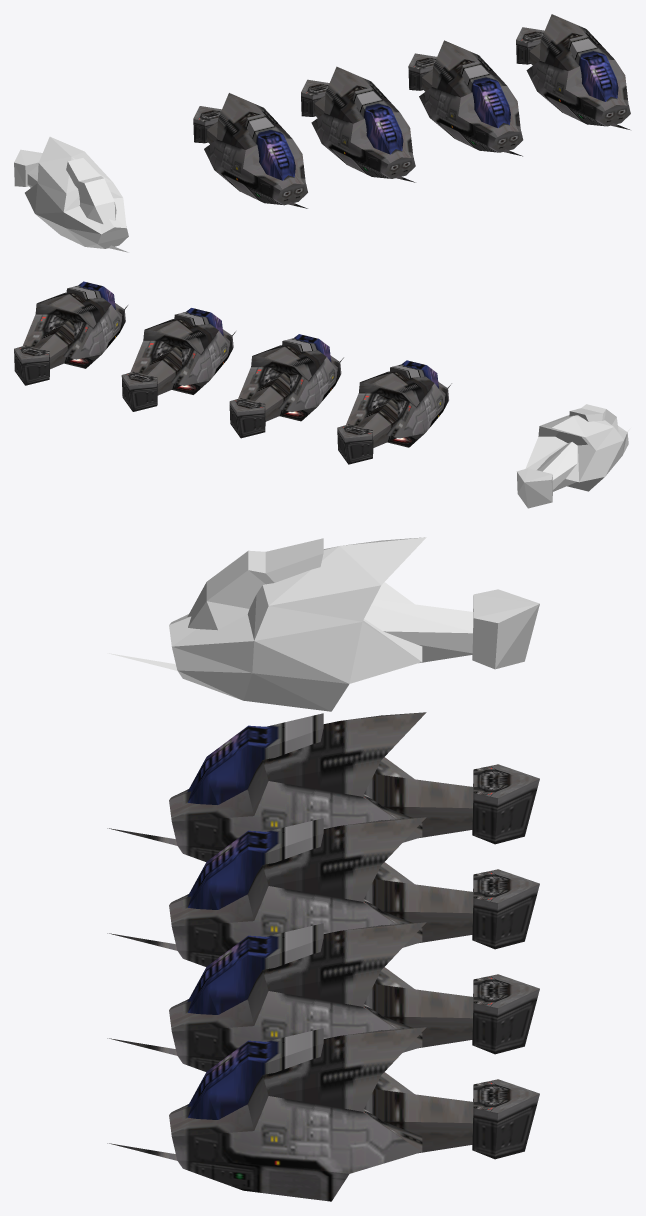
Rendered from smt_swarmer.DAE.
3 renders of one model, top to bottom at view 1: azimuth 30°, elevation 25°; view 2: azimuth 150°, elevation 25°; view 3: azimuth 270°, elevation 25°, orthographic. The views are drawn at different scales.
Visible parts, largest first — view 1: MULT[root_mesh]_LOD[3], MULT[root_mesh]_LOD[1], COL[Root], MULT[root_mesh]_LOD[0], MULT[root_mesh]_LOD[2]; view 2: COL[Root], MULT[root_mesh]_LOD[3], MULT[root_mesh]_LOD[0], MULT[root_mesh]_LOD[1], MULT[root_mesh]_LOD[2]; view 3: MULT[root_mesh]_LOD[3], COL[Root], MULT[root_mesh]_LOD[0], MULT[root_mesh]_LOD[1], MULT[root_mesh]_LOD[2].
Boxes of the visible parts, x1,y1,x2,y2 form: MULT[root_mesh]_LOD[3]: (516, 14, 630, 129); MULT[root_mesh]_LOD[1]: (301, 66, 415, 182); COL[Root]: (14, 136, 128, 252); MULT[root_mesh]_LOD[0]: (193, 93, 307, 208); MULT[root_mesh]_LOD[2]: (408, 40, 523, 156); COL[Root]: (517, 404, 630, 508); MULT[root_mesh]_LOD[3]: (14, 281, 127, 385); MULT[root_mesh]_LOD[0]: (337, 360, 451, 464); MULT[root_mesh]_LOD[1]: (229, 334, 343, 438); MULT[root_mesh]_LOD[2]: (121, 308, 235, 411); MULT[root_mesh]_LOD[3]: (107, 1027, 539, 1201); COL[Root]: (107, 537, 539, 711); MULT[root_mesh]_LOD[0]: (107, 712, 539, 861); MULT[root_mesh]_LOD[1]: (107, 817, 539, 966); MULT[root_mesh]_LOD[2]: (107, 922, 539, 1071).
Bounding box in the file's own units: 38.09 × 4.95 × 12.48.
Materials: 9 (9 with a texture image).
